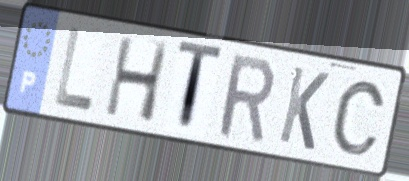C: (329, 77, 389, 158)
H: (102, 33, 172, 125)
K: (275, 63, 332, 155)
L: (51, 25, 97, 115)
R: (216, 52, 276, 147)
T: (175, 38, 226, 139)
